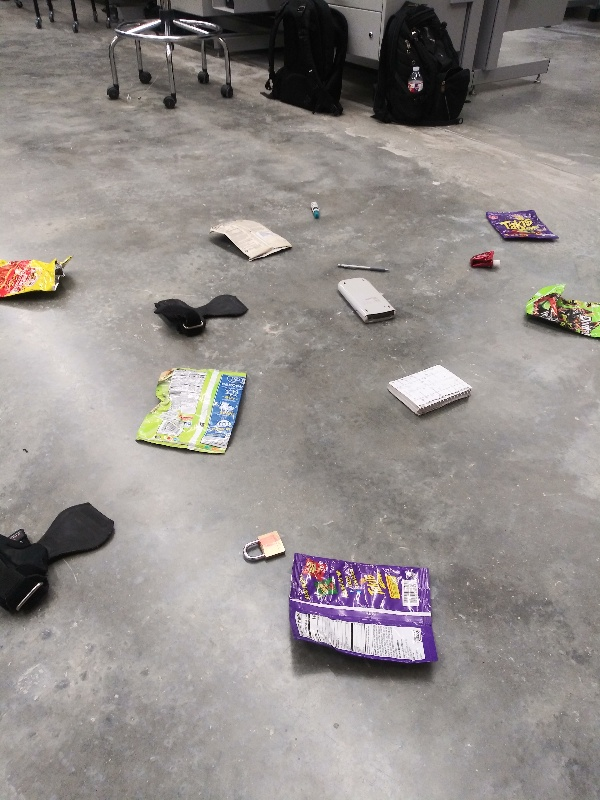bag: (282, 546, 443, 673), (130, 362, 258, 461), (518, 280, 600, 343), (207, 216, 301, 263), (1, 251, 77, 300), (479, 205, 563, 246)
bottle: (406, 63, 425, 95)
